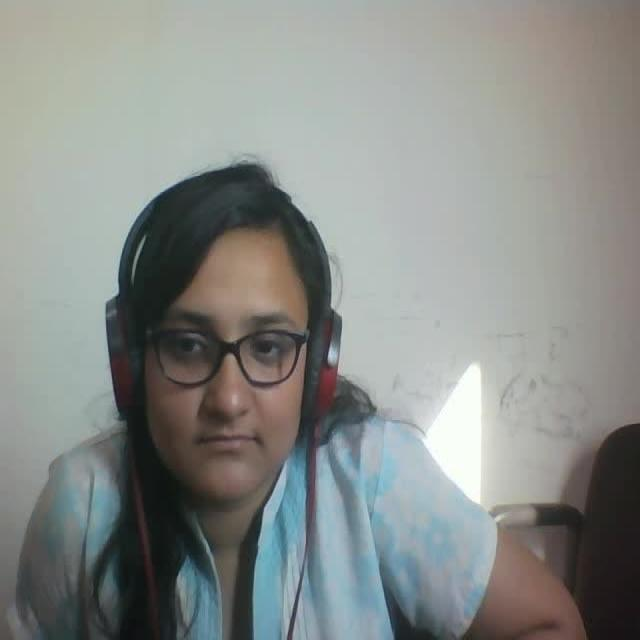Engaged: (84, 140, 381, 507)
